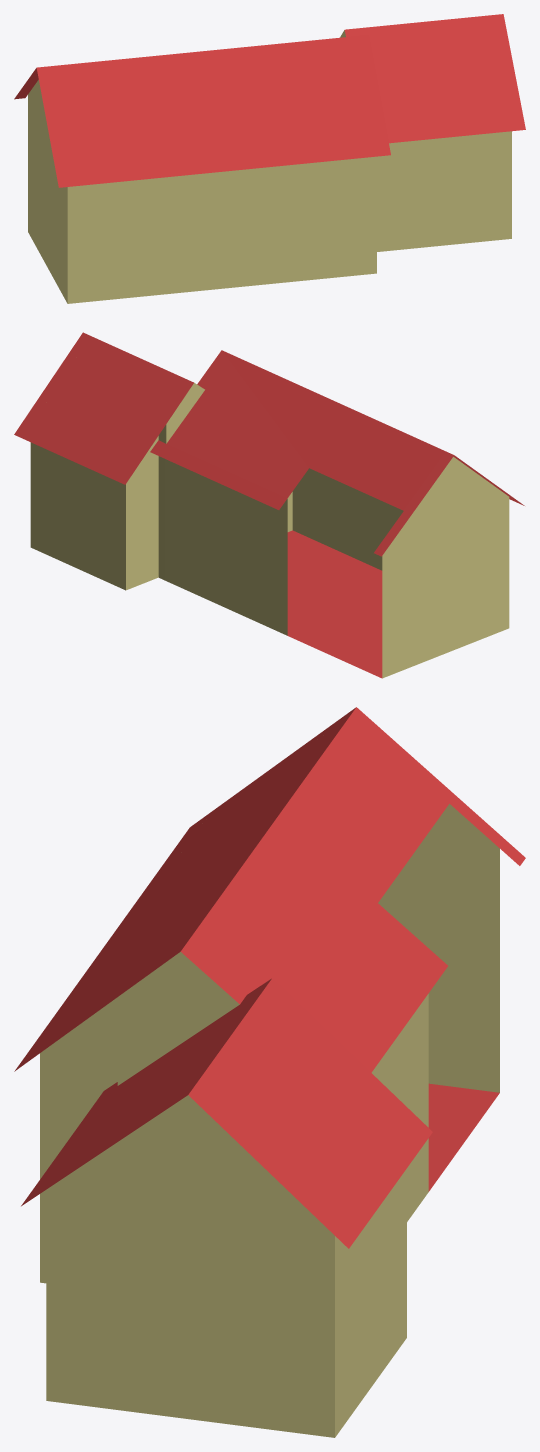
3 renders of one model, top to bottom at view 1: azimuth 30°, elevation 25°; view 2: azimuth 150°, elevation 25°; view 3: azimuth 270°, elevation 25°, orthographic. The views are drawn at different scales.
Bounding box in the file's own units: 34.59 × 18.47 × 14.26.
